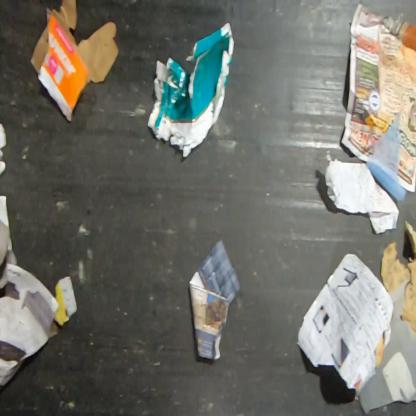cardboard: (146, 22, 234, 158), (30, 0, 120, 123), (0, 256, 60, 390), (380, 219, 415, 333), (54, 274, 78, 327)
rigid_plastic: (358, 278, 416, 415)
soft_plastic: (366, 109, 408, 203)
